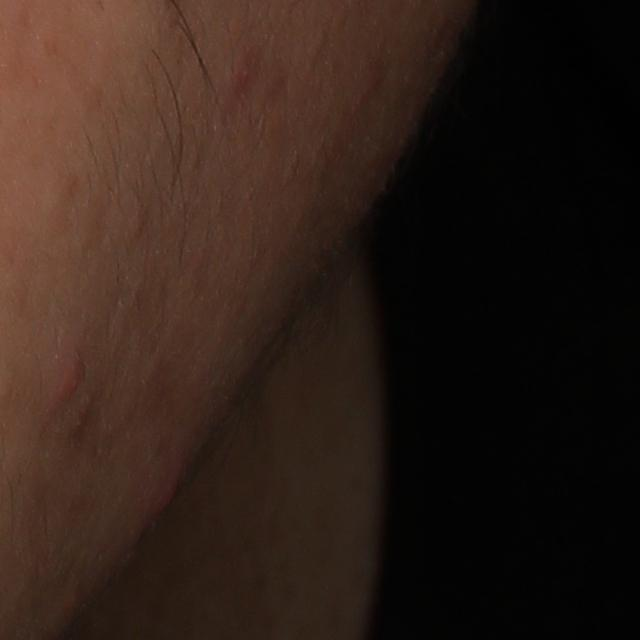papule: (40, 351, 91, 418), (142, 468, 182, 531), (231, 41, 261, 96)
